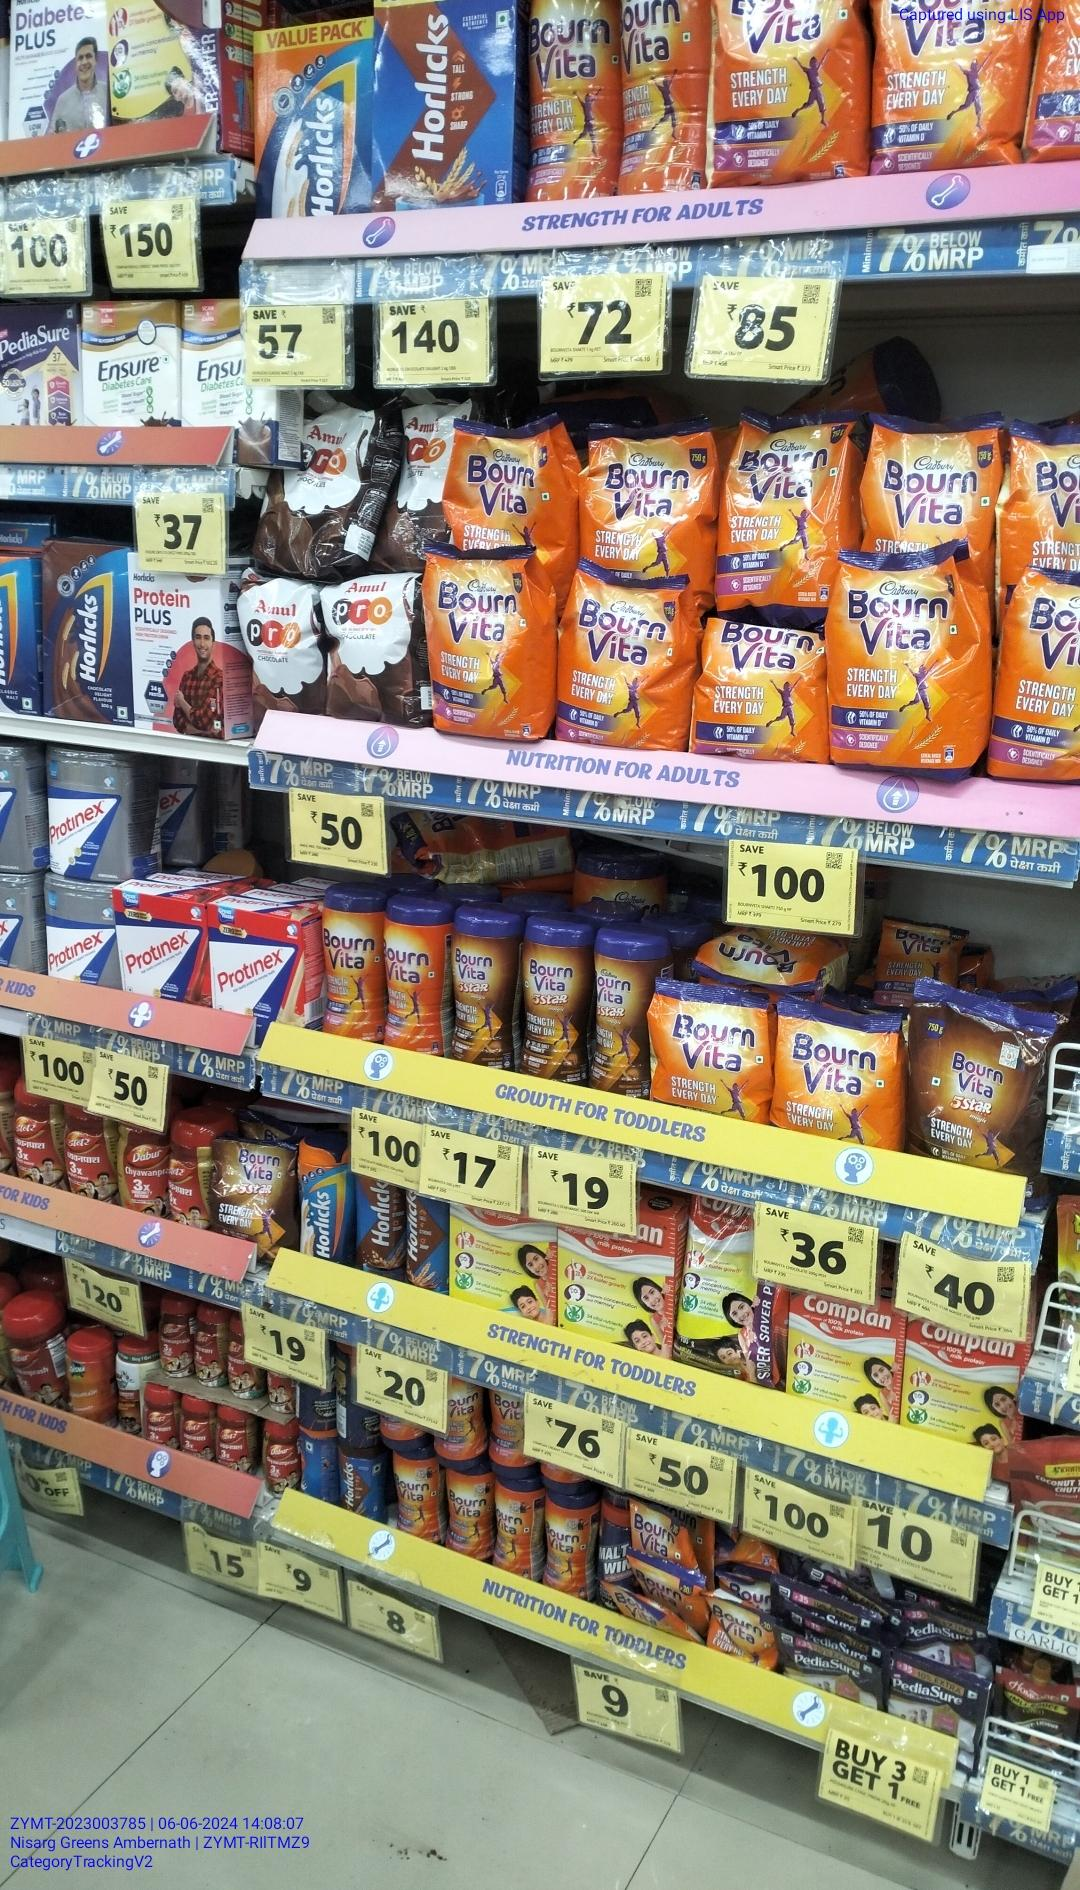BOURN_VITA_FIVE_STAR_MAGIC_500_G_JAR: (521, 918, 587, 1083), (450, 903, 514, 1072), (595, 931, 654, 1098)
COMPLAN_CHOCOLATE_200_GMS_PACK: (788, 1290, 900, 1428)
COMPLAN_CHOCOLATE_500_GMS_PACK: (562, 1210, 675, 1363)
COMPLAN_CREAMY_CLASSIC_500_G_PACK: (448, 1201, 556, 1332)
COMPLAN_RC_POUCH_700_GMS_12: (683, 1188, 783, 1393)
HORLICK_CHOCOLATE_500_G_JAR: (340, 1451, 384, 1527)
HORLICK_CLASSIC_MALT_500_G_JAR: (295, 1132, 352, 1262)
